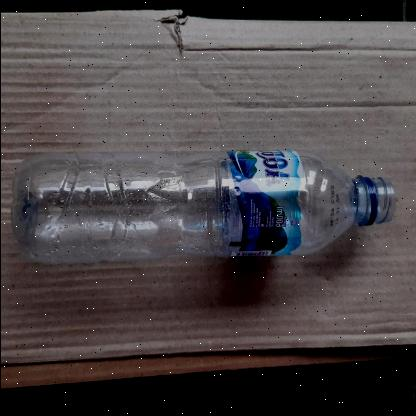Plastic Bottle: (14, 152, 396, 262)
